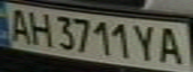1: (109, 20, 133, 60), (90, 18, 112, 56)
3: (51, 14, 75, 52)
7: (69, 16, 93, 53)
A: (154, 24, 187, 65), (3, 6, 33, 44)
H: (24, 8, 54, 47)
Y: (133, 21, 160, 62)
